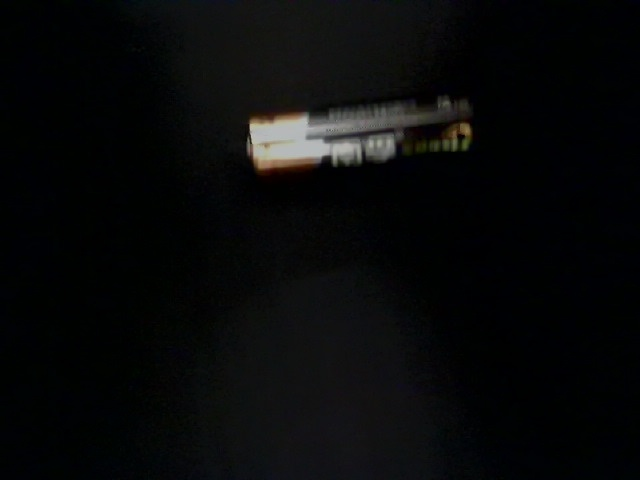QTLJ: (39, 293, 233, 480)
